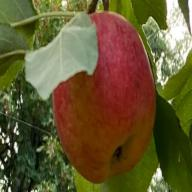Apples: (52, 11, 155, 183)
